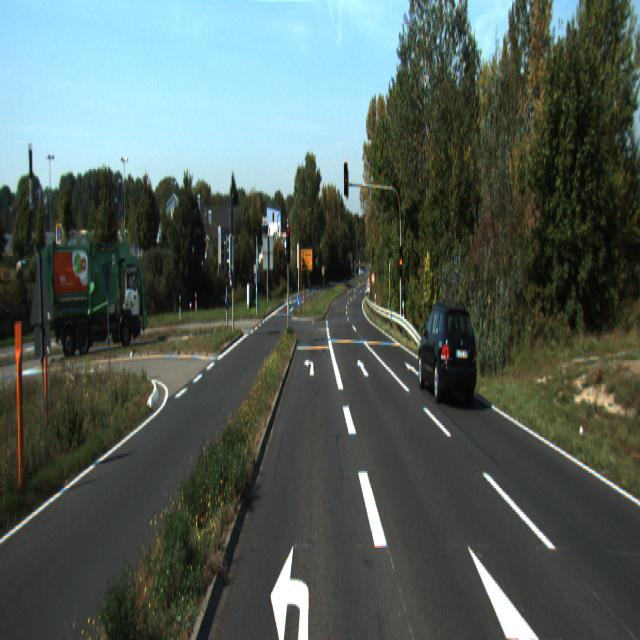Car: (416, 301, 478, 405)
Truck: (34, 242, 147, 357)
